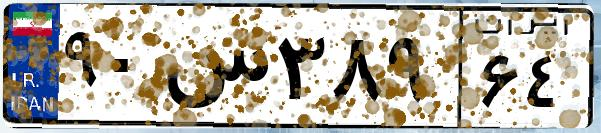0: (110, 28, 158, 98)
3: (270, 28, 330, 110)
4: (525, 38, 570, 115)
6: (475, 38, 525, 113)
8: (330, 28, 385, 110)
9: (385, 28, 445, 110), (57, 26, 110, 100)
س: (158, 20, 270, 120)
